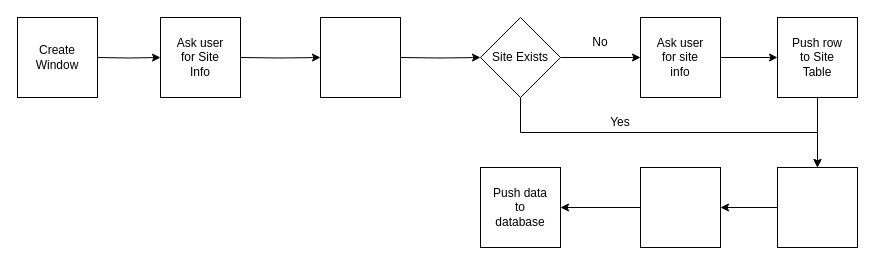
The diagram is 875 pixels wide and 265 high, and some of its shapes have lost their labels. Here are the shapes that lost their labels. From the top down, the box of each, then its label:
(320, 16, 400, 98): Check for Site in database
(640, 166, 720, 248): Parse .dat file
(776, 166, 858, 248): Ask user for file location
